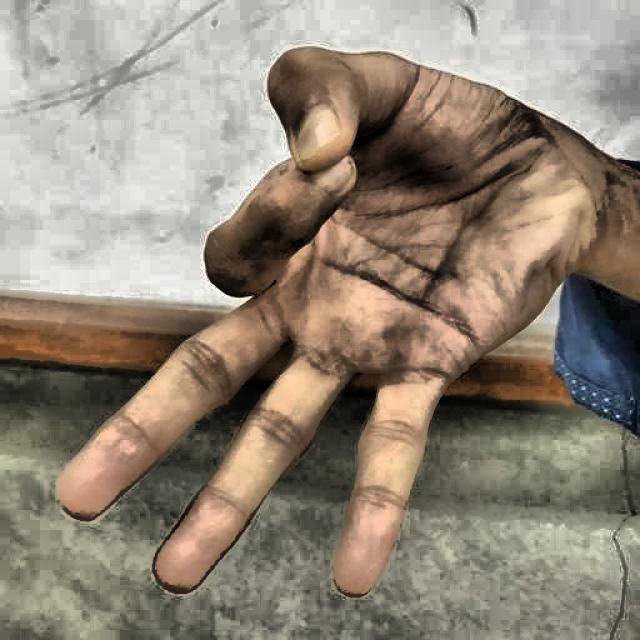Fa: (32, 18, 599, 614)
